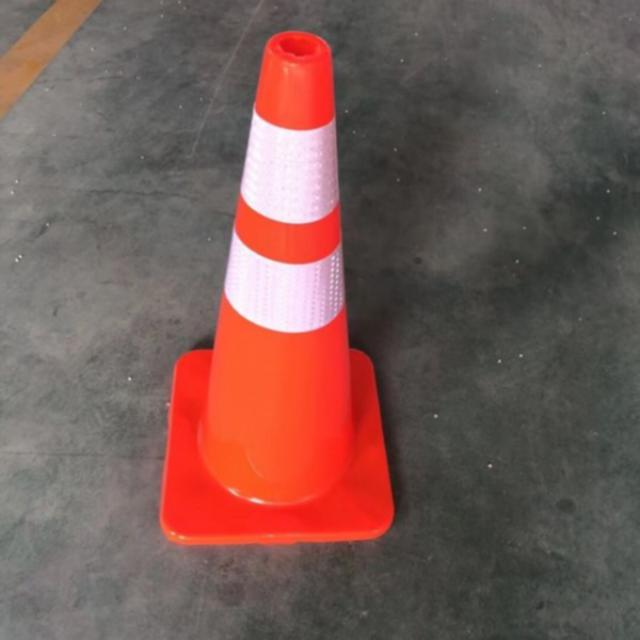reflective_cone: (151, 29, 402, 548)
